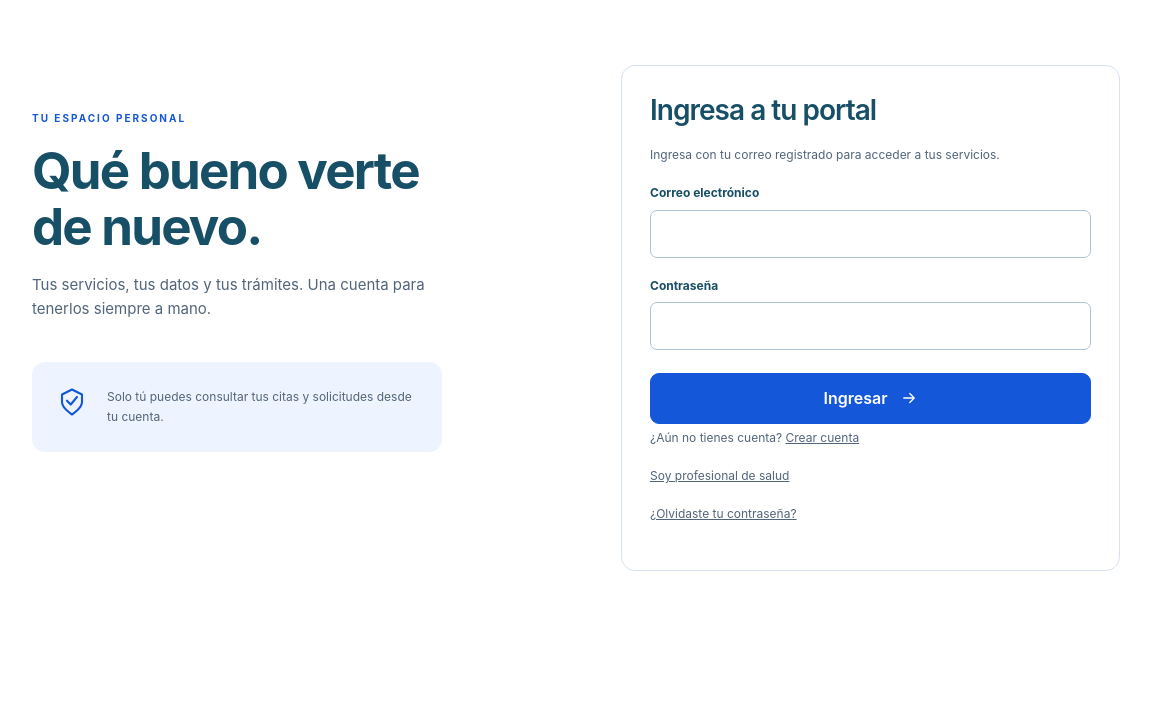
Test: la contraseña correcta solicita código sin iniciar sesión
Later steps or results of the test are not shown.
Type "ana@example.test" into the field labelled "Correo electrónico" at (870, 234), box [650,210,1091,258]
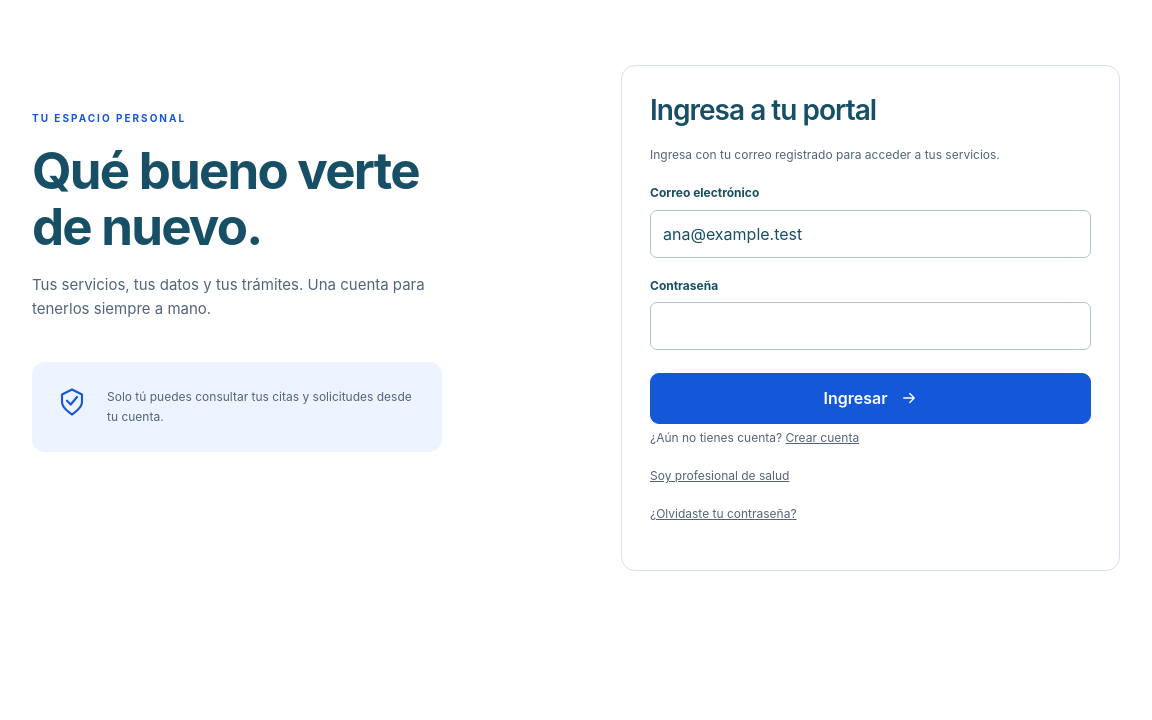
Type "Prueba123!" into the password field labelled "Contraseña" at (870, 326), box [650,302,1091,350]
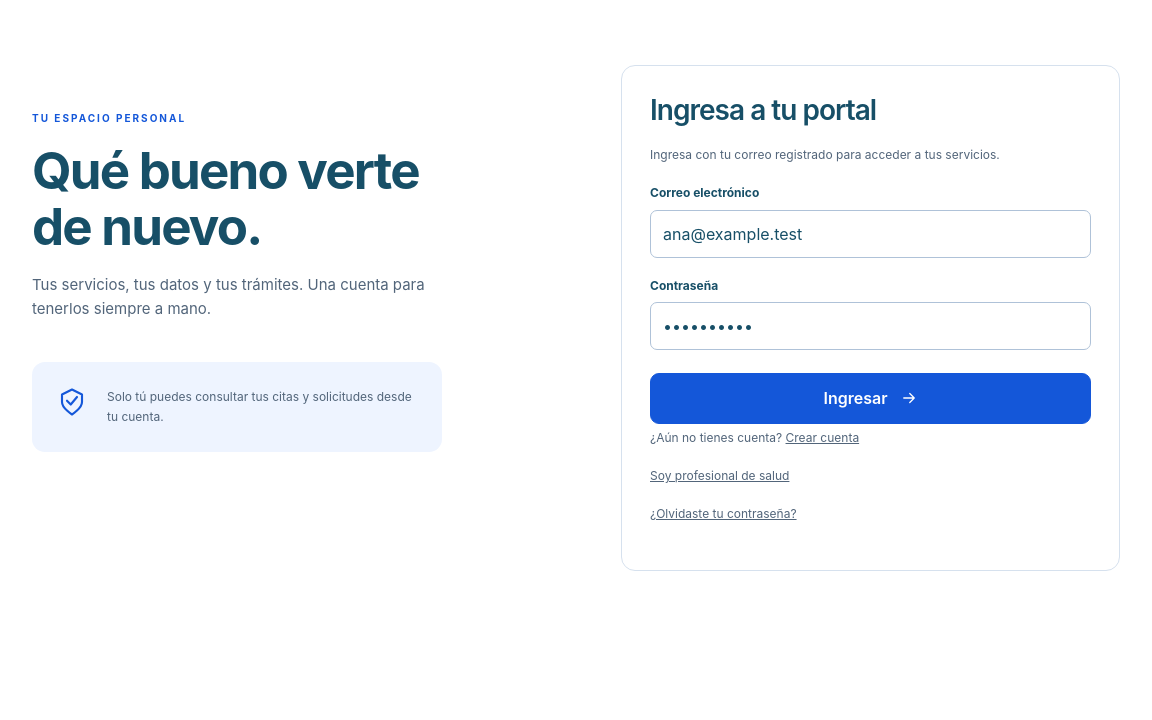
Click the button "Ingresar" at (870, 398), box [650,373,1091,424]
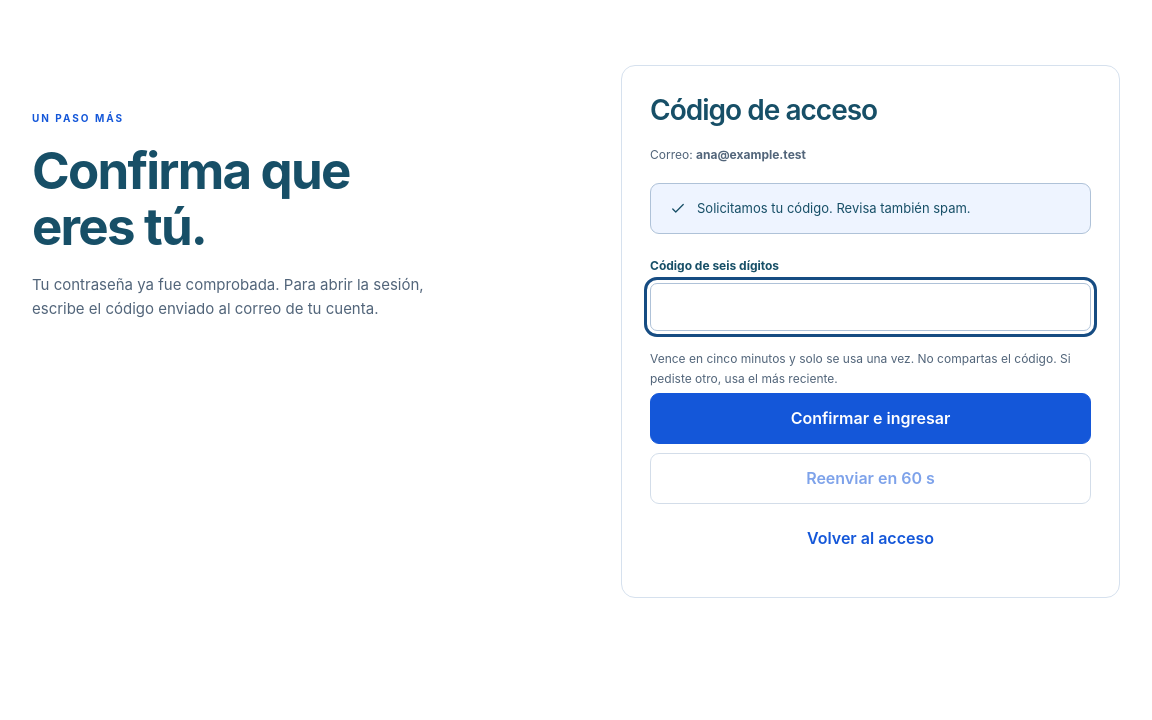
Now the heading "Código de acceso" is shown, box [650,93,877,127]
